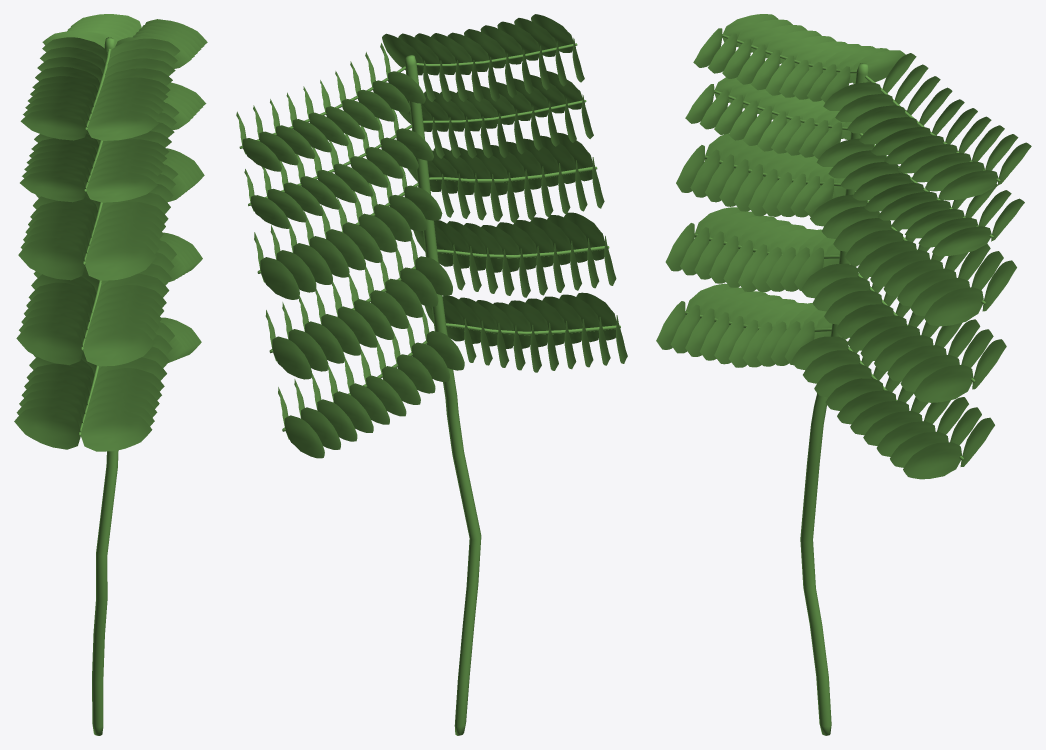
File: lady_fern_variant1.fbx
The picture shows the model from 3 angles, left to right: view 1: azimuth 30°, elevation 25°; view 2: azimuth 150°, elevation 25°; view 3: azimuth 270°, elevation 25°; orthographic projection.
Visible parts, largest first — view 1: Plane.001, Plane.004, Curve.002; view 2: Plane.001, Plane.004, Curve.002; view 3: Plane.004, Plane.001, Curve.002.
Part boxes in pixels (x1,y1,x2,y2): Plane.001: (14,37,179,451); Plane.004: (42,14,207,362); Curve.002: (92,37,118,735); Plane.001: (382,14,627,372); Plane.004: (236,43,464,458); Curve.002: (405,55,481,735); Plane.004: (791,53,1031,479); Plane.001: (656,14,905,367); Curve.002: (800,63,868,735).
Size of the model in its own units: 22.72 by 50.83 by 25.12.
